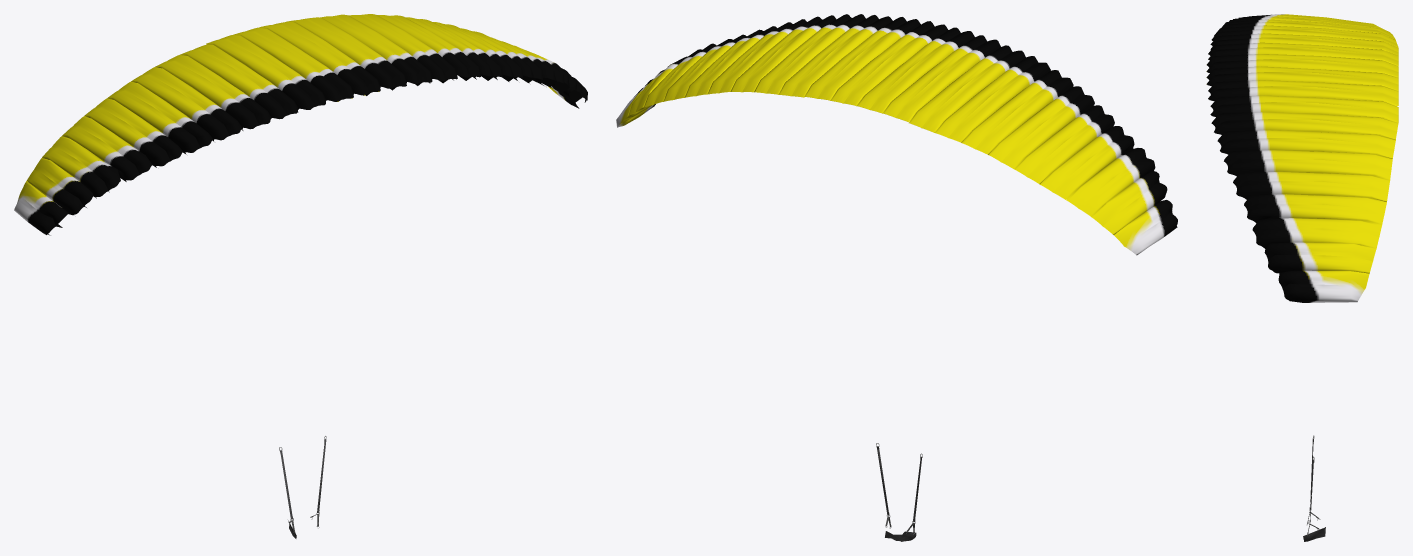
File: paraglider.glb
3 renders of one model, left to right at view 1: azimuth 30°, elevation 25°; view 2: azimuth 150°, elevation 25°; view 3: azimuth 270°, elevation 25°, orthographic. The views are drawn at different scales.
Visible parts, largest first — view 1: seg1314, seg1516, seg1112, seg1718, seg1920, seg910, seg2122, seg2324, seg78, seg2526, seg56, seg2728 (+8 smaller); view 2: seg1314, seg1516, seg1112, seg1718, seg1920, seg910, seg2122, seg2324, seg78, seg56, seg2526, seg2728 (+8 smaller); view 3: seg3334, seg3132, seg3536, seg2930, seg3738, seg2728, seg3940, seg2526, seg4142, seg2324, seg4344, seg2122 (+6 smaller).
Boxes of the visible parts, x1,y1,x2,y2 form: seg1314: (130,67,241,141); seg1516: (155,55,271,130); seg1112: (107,82,212,154); seg1718: (180,44,297,119); seg1920: (206,35,326,112); seg910: (84,98,182,167); seg2122: (233,27,353,101); seg2324: (259,22,380,95); seg78: (62,116,151,181); seg2526: (286,17,406,90); seg56: (42,136,120,198); seg2728: (320,14,432,85); seg1314: (962,70,1073,154); seg1516: (934,56,1050,142); seg1112: (988,86,1094,168); seg1718: (909,45,1025,132); seg1920: (882,35,1000,121); seg910: (1014,105,1114,184); seg2122: (856,27,974,113); seg2324: (830,21,948,105); seg78: (1040,126,1134,199); seg56: (1066,148,1155,216); seg2526: (804,17,920,100); seg2728: (778,15,892,97); seg3334: (1224,150,1392,179); seg3132: (1217,130,1395,158); seg3536: (1233,171,1390,201); seg2930: (1211,112,1398,139); seg3738: (1244,194,1386,224); seg2728: (1210,95,1398,122); seg3940: (1252,216,1381,248); seg2526: (1208,80,1398,106); seg4142: (1264,242,1376,273); seg2324: (1206,66,1398,90); seg4344: (1278,270,1369,302); seg2122: (1206,54,1398,77).
Bounding box in the file's own units: 10.63 × 9.1 × 3.35.
Materials: 5 (4 with a texture image).
